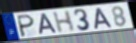3: (73, 8, 92, 33)
8: (111, 5, 128, 28)
A: (38, 12, 58, 36), (94, 8, 114, 30)
H: (52, 10, 76, 35)
P: (17, 13, 36, 38)
